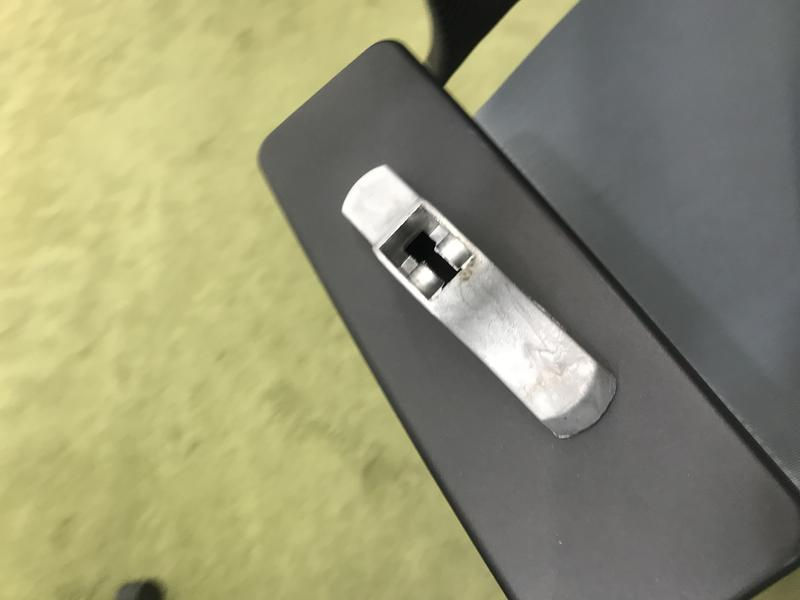zapchast: (330, 153, 632, 459)
